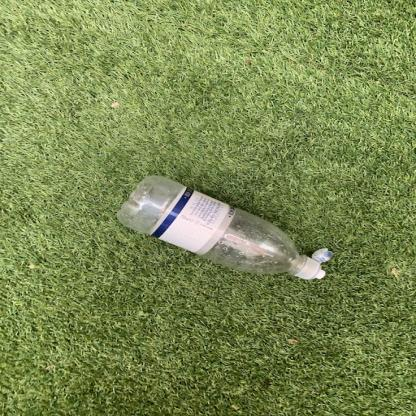trash: (114, 173, 336, 284)
